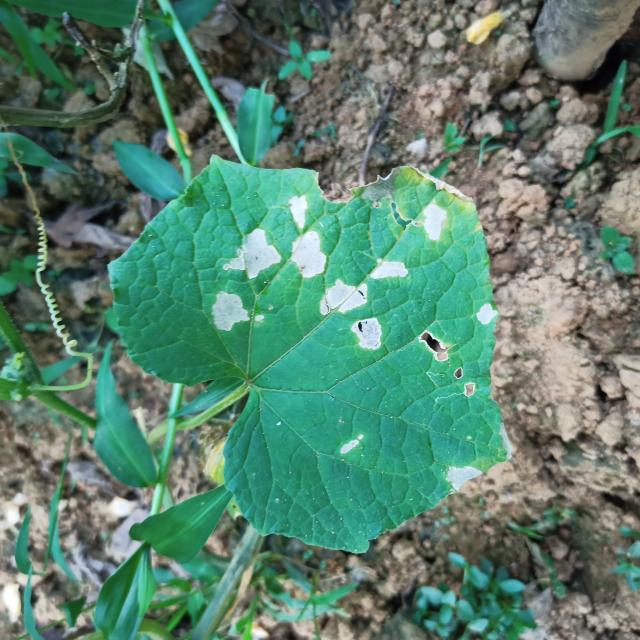disease_cucumber: (321, 276, 384, 357), (285, 195, 328, 282), (222, 228, 282, 280), (209, 288, 274, 332), (421, 330, 465, 380), (367, 253, 410, 284), (420, 200, 448, 245), (440, 461, 478, 491), (337, 430, 366, 459), (472, 302, 494, 328)
